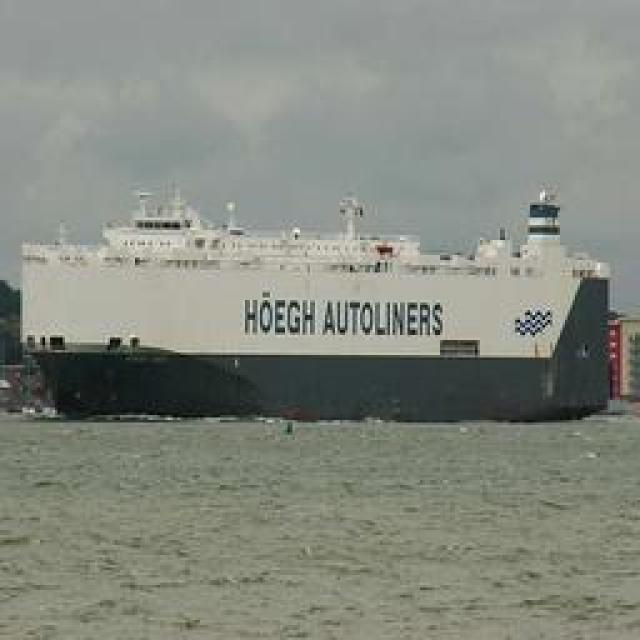ship2: (21, 187, 610, 424)
